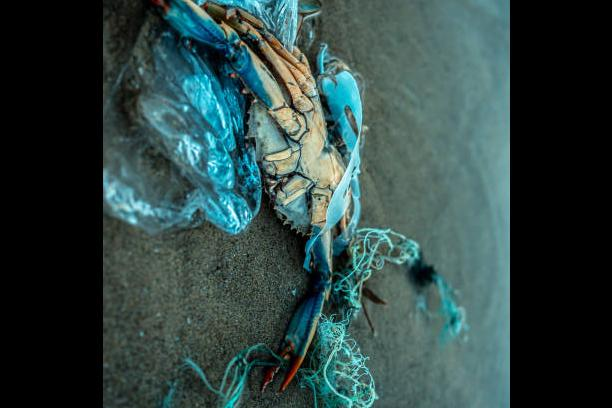Non_Gorille: (132, 0, 498, 408)
